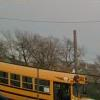Bus: (3, 57, 95, 100)
